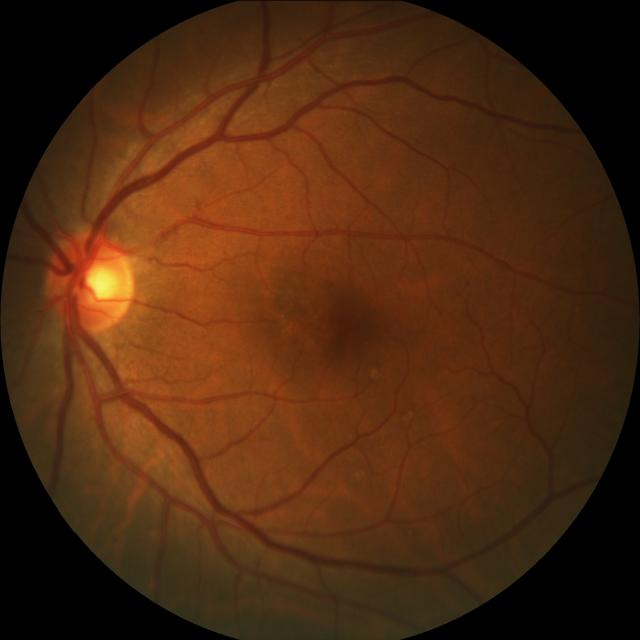OC: (71, 258, 119, 308)
OD: (45, 228, 137, 335)
